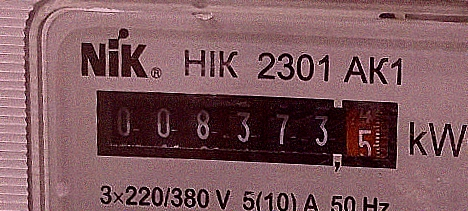0: (112, 102, 134, 139), (152, 103, 173, 140)
3: (309, 110, 333, 148), (231, 106, 254, 144)
4: (355, 104, 374, 125)
5: (355, 125, 375, 156)
7: (271, 107, 291, 147)
8: (191, 105, 214, 142)
screen: (87, 80, 408, 182)
